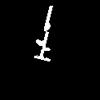double_crochet: (34, 6, 52, 60)
